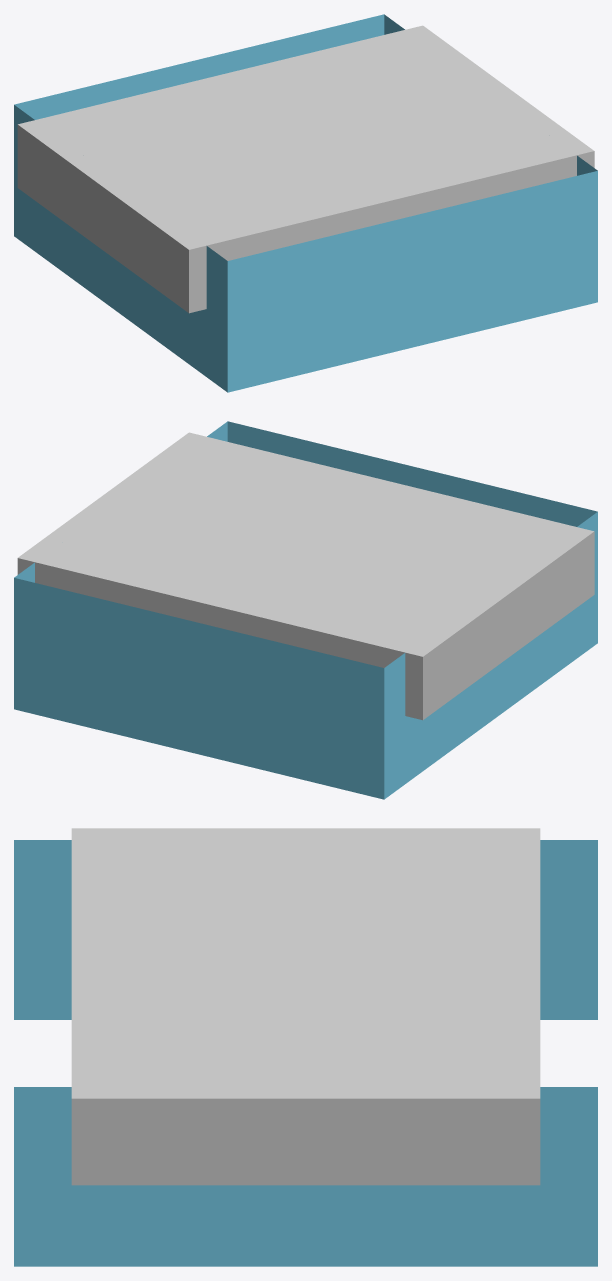
File: Town_Bld-Med_BaseD.FBX
3 views of the same model, one above another, from view 1: azimuth 30°, elevation 25°; view 2: azimuth 150°, elevation 25°; view 3: azimuth 270°, elevation 25° (orthographic). The views are drawn at different scales.
Visible parts, largest first — view 1: Town_Bld-Med_BaseD; view 2: Town_Bld-Med_BaseD; view 3: Town_Bld-Med_BaseD.
Part boxes in pixels (x1,y1,x2,y2): Town_Bld-Med_BaseD: [14, 14, 597, 392]; Town_Bld-Med_BaseD: [14, 421, 597, 799]; Town_Bld-Med_BaseD: [14, 828, 597, 1266].
Size of the model in its own units: 657 by 204 by 600.
